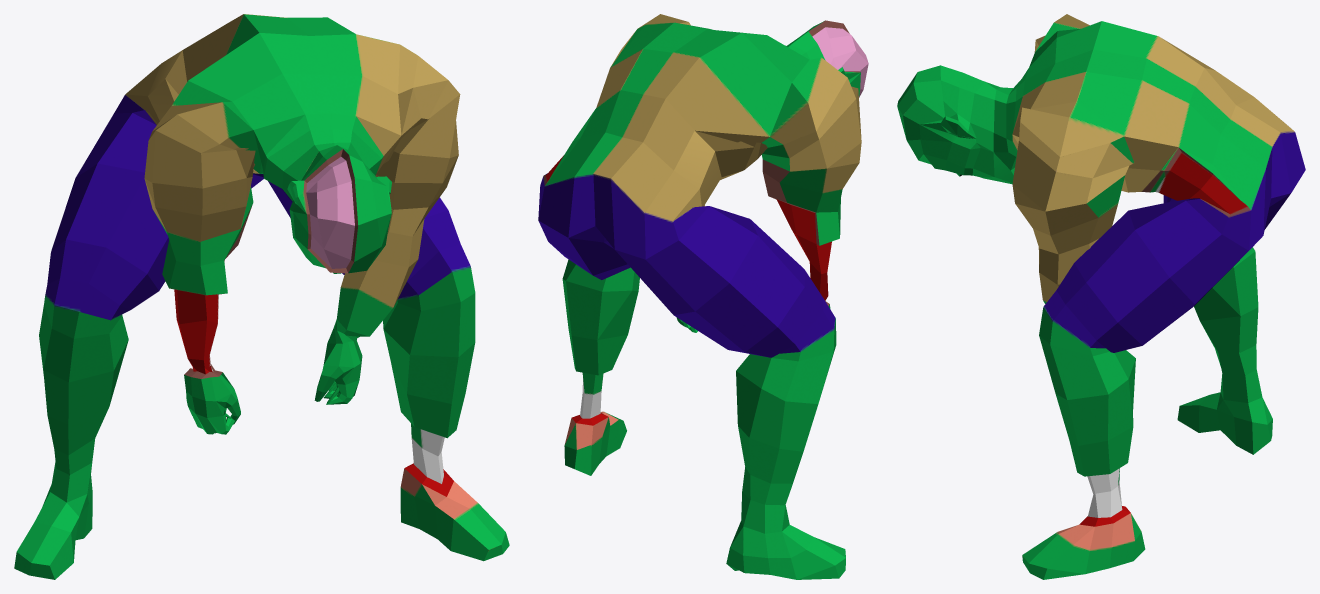
The model's file is ZombieAttack(47).obj.
3 renders of one model, left to right at view 1: azimuth 30°, elevation 25°; view 2: azimuth 150°, elevation 25°; view 3: azimuth 270°, elevation 25°, orthographic. The views are drawn at different scales.
Parts seen in each view (by area): view 1: Plane002; view 2: Plane002; view 3: Plane002.
Boxes of the visible parts, bbox=[...] form: Plane002: bbox=[14, 14, 509, 579]; Plane002: bbox=[538, 14, 868, 579]; Plane002: bbox=[897, 14, 1305, 579].
Bounding box in the file's own units: 833 × 1088 × 862.
